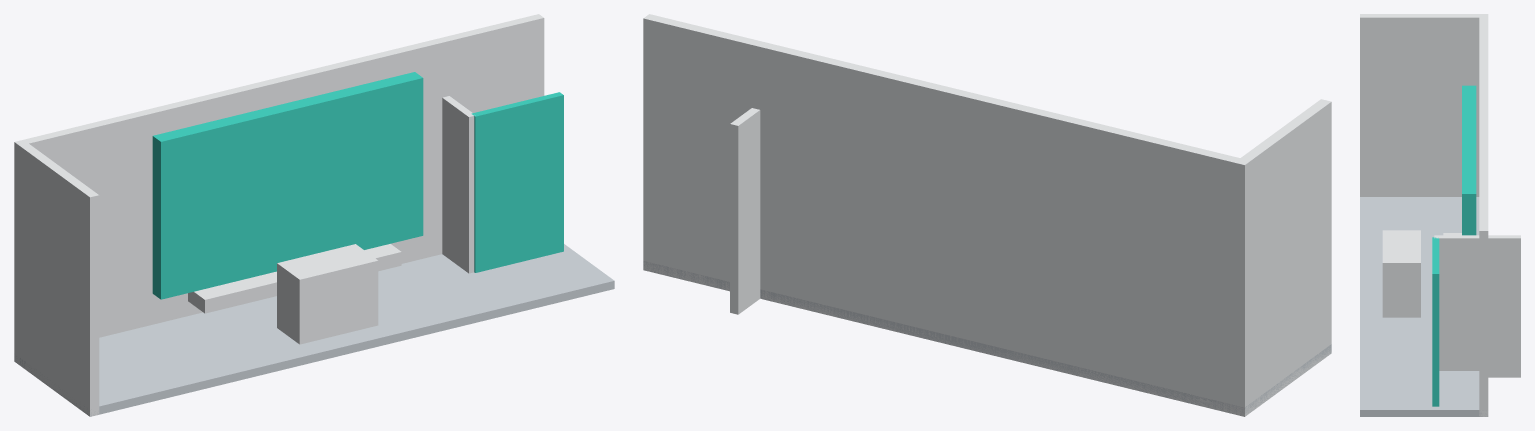
The picture shows the model from 3 angles, left to right: view 1: azimuth 30°, elevation 25°; view 2: azimuth 150°, elevation 25°; view 3: azimuth 270°, elevation 25°; orthographic projection. The views are drawn at different scales.
Parts seen in each view (by area): view 1: Exhibition Booth Concept; view 2: Exhibition Booth Concept; view 3: Exhibition Booth Concept.
Boxes of the visible parts, box(x1,y1,x2,y2) form: Exhibition Booth Concept: box(14, 14, 614, 416); Exhibition Booth Concept: box(643, 14, 1331, 416); Exhibition Booth Concept: box(1360, 14, 1520, 416).
Size of the model in its own units: 8 by 3.2 by 2.5.
